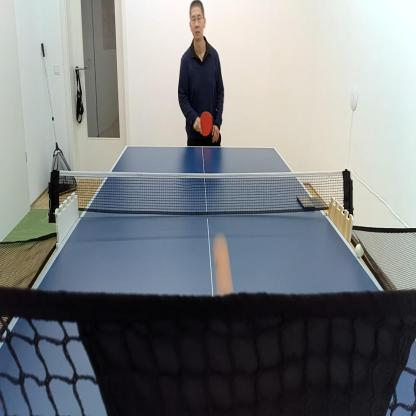Ball: (212, 233, 234, 296), (354, 241, 365, 260)
